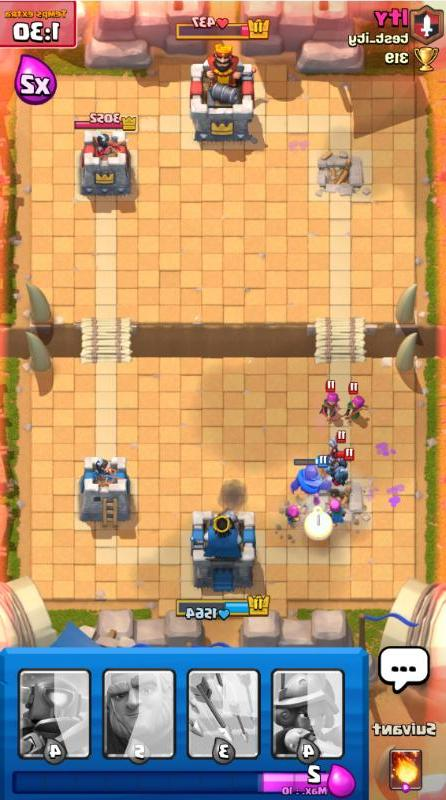archere: (319, 380, 344, 424), (344, 382, 365, 425), (284, 502, 308, 529), (326, 497, 348, 526)
chevalier: (290, 455, 332, 506)
gargouille: (325, 448, 354, 486), (329, 430, 348, 467)
